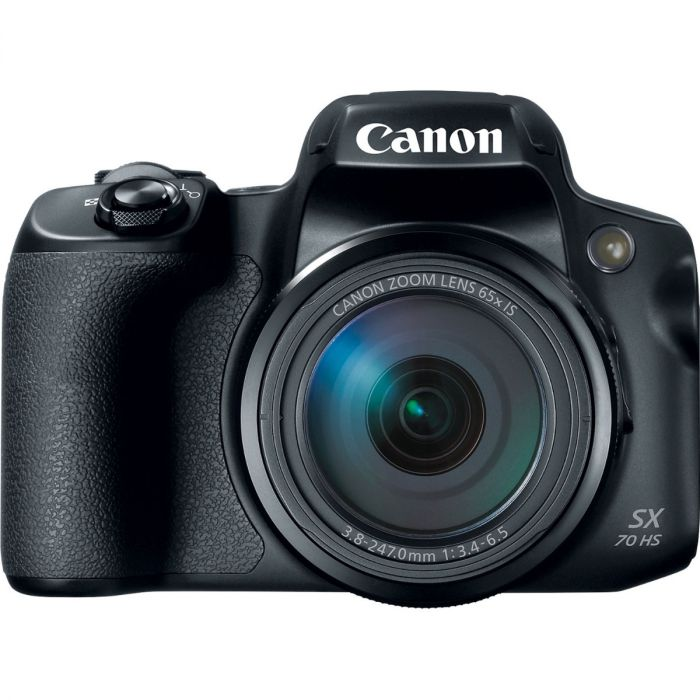kamera: (1, 81, 700, 619)
